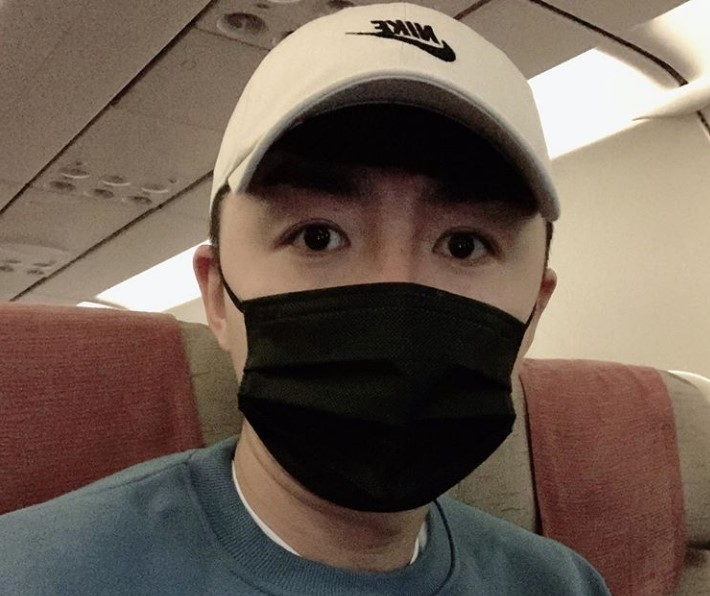face_with_mask: (193, 3, 562, 517)
